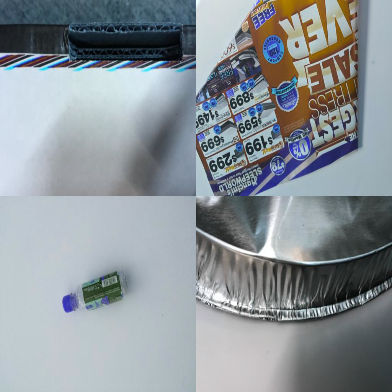cardboard: (1, 22, 196, 194)
metal: (196, 195, 392, 323)
paper: (196, 1, 363, 196)
plastic: (61, 271, 130, 313)
